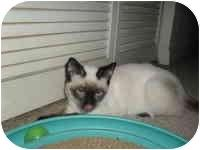siamese: (61, 55, 119, 122)
